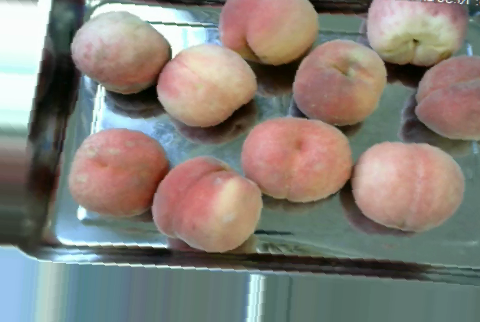Peach: (151, 156, 262, 253), (350, 141, 464, 232), (241, 114, 352, 203), (67, 127, 170, 217), (155, 42, 261, 129), (290, 36, 389, 125), (71, 9, 171, 92), (364, 1, 469, 62), (219, 1, 318, 62), (413, 55, 479, 144)
